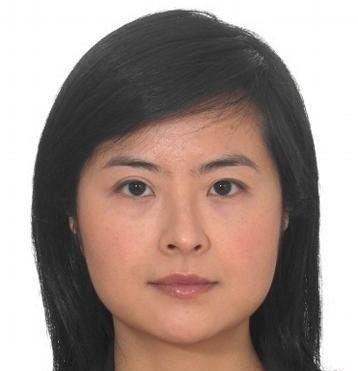unmask: (83, 136, 282, 316)
